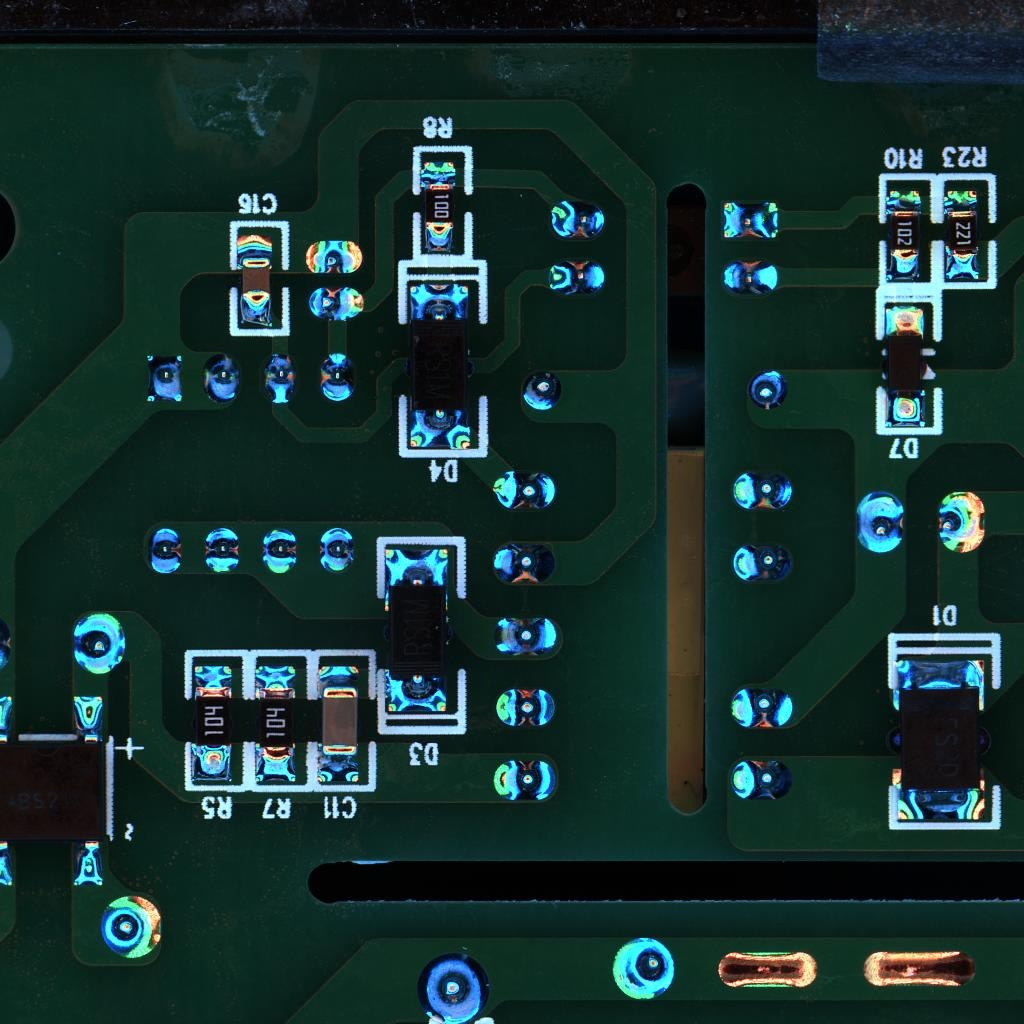spot: (417, 952, 491, 1023), (97, 891, 166, 962), (609, 936, 677, 1001), (71, 609, 127, 674), (853, 489, 906, 556), (935, 487, 986, 553), (487, 542, 558, 586), (730, 756, 796, 803), (727, 687, 795, 732), (492, 616, 562, 659), (492, 760, 559, 804), (492, 687, 558, 730), (489, 470, 557, 510), (730, 543, 793, 584), (730, 472, 795, 510), (305, 238, 367, 277), (548, 199, 607, 239), (719, 259, 782, 296), (721, 201, 780, 240), (546, 260, 606, 298), (307, 284, 367, 322), (201, 350, 240, 406), (144, 353, 184, 406), (259, 526, 299, 578), (145, 526, 185, 577), (203, 526, 242, 578), (260, 352, 297, 405), (319, 351, 355, 404), (318, 526, 356, 573), (520, 368, 561, 411), (748, 370, 786, 410)
